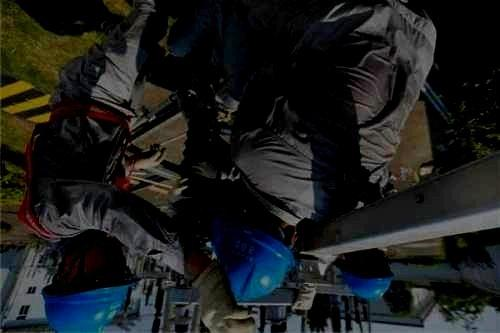helmet: (41, 234, 140, 333), (209, 200, 299, 302), (341, 248, 395, 303)
